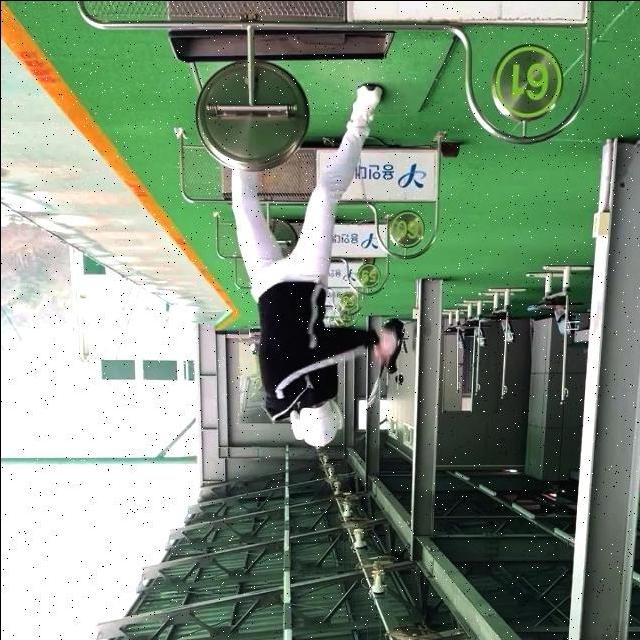golf club-handle: (363, 360, 390, 414)
